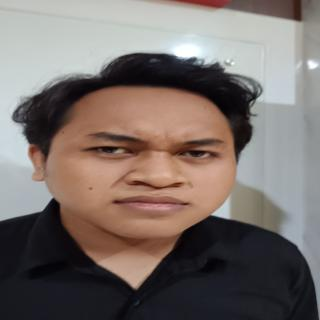Marah: (48, 80, 243, 250)
